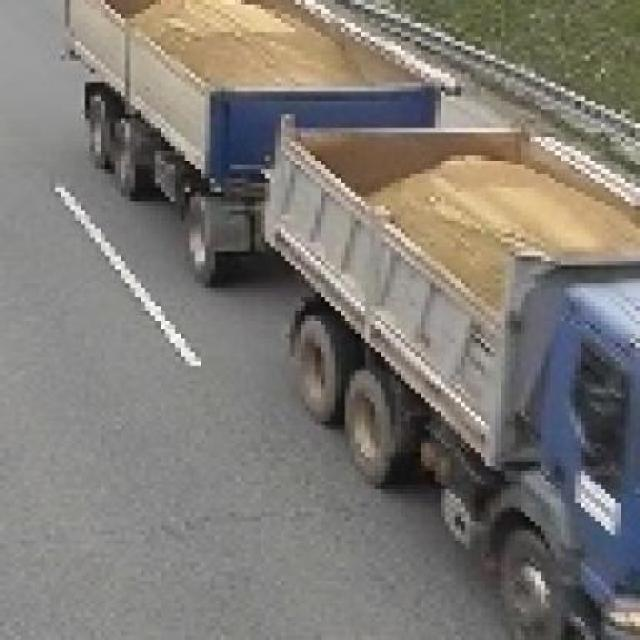truck: (60, 1, 636, 636)
